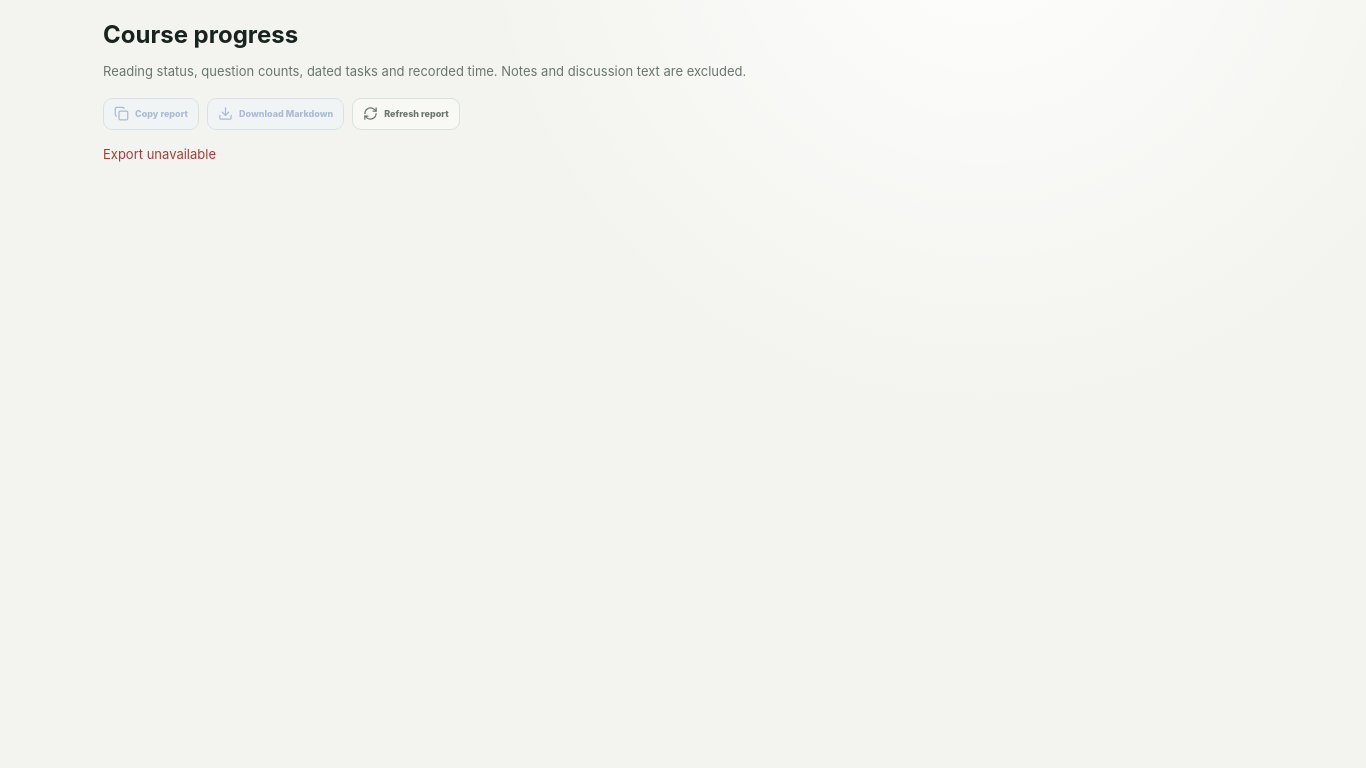
Scenario: keeps failed loading visible and allows a retry
Expected: the button "Copy report" is disabled, [103,98,199,130]
Expected: the message "Export unavailable" is shown, [103,146,216,162]
Click the button "Refresh report" at (406,114), box [352,98,460,130]
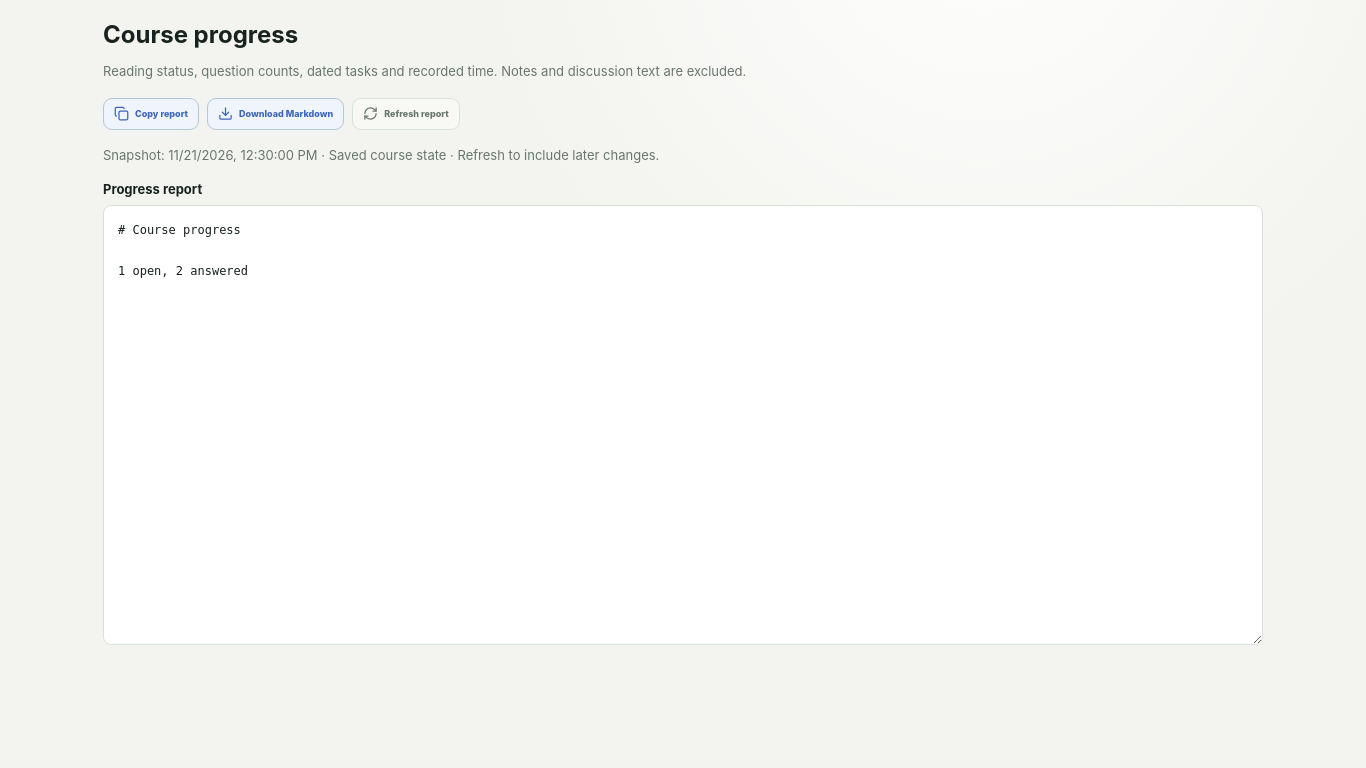
Expected: the button "Copy report" is enabled, [103,98,199,130]
Expected: the message "Export unavailable" is gone
